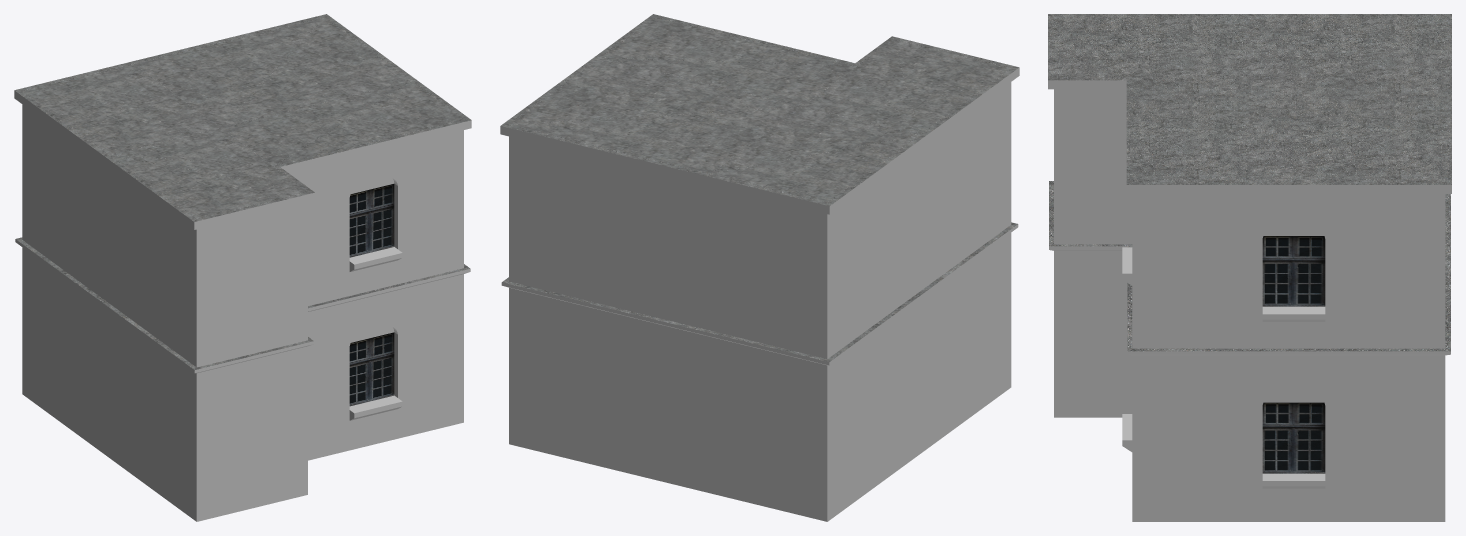
The model's file is Building_03.fbx.
The picture shows the model from 3 angles, left to right: view 1: azimuth 30°, elevation 25°; view 2: azimuth 150°, elevation 25°; view 3: azimuth 270°, elevation 25°; orthographic projection. The views are drawn at different scales.
Parts seen in each view (by area): view 1: Building_03; view 2: Building_03; view 3: Building_03.
Part boxes in pixels (x1=…): Building_03: x1=14, y1=14, x2=471, y2=521; Building_03: x1=500, y1=14, x2=1019, y2=521; Building_03: x1=1048, y1=14, x2=1451, y2=521.
Bounding box in the file's own units: 522 × 479 × 516.
